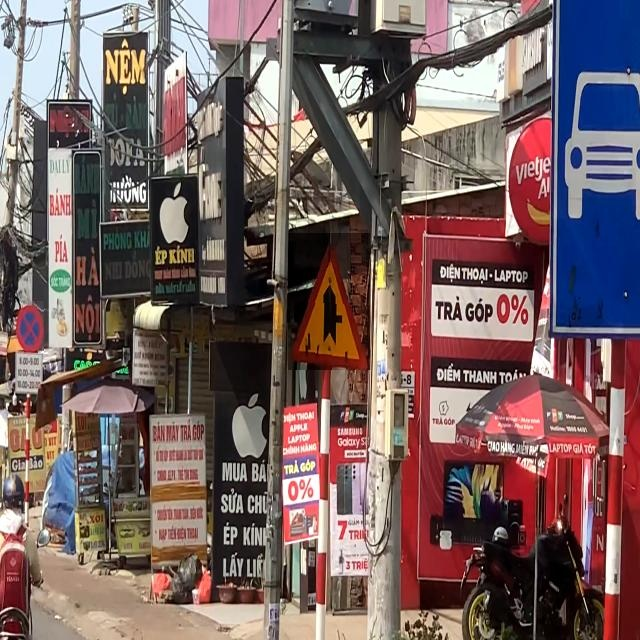bien_chi_dan: (288, 233, 370, 370), (16, 301, 44, 354)
